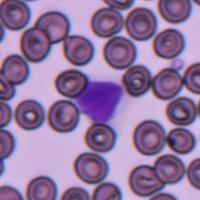L: (73, 76, 128, 125)
